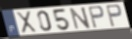0: (36, 10, 53, 32)
5: (51, 7, 71, 32)
N: (68, 7, 92, 31)
P: (105, 4, 124, 28), (87, 5, 106, 29)
X: (15, 11, 39, 35)
